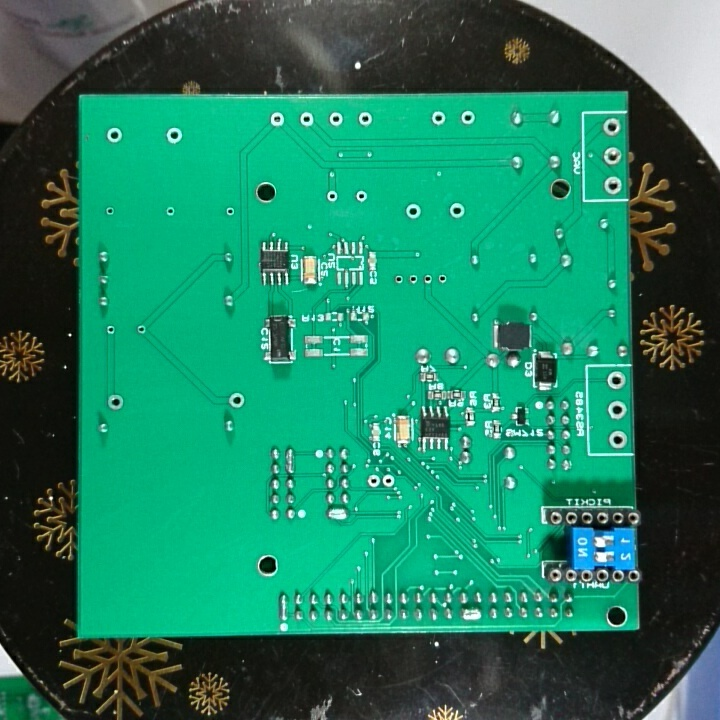F: (599, 144, 625, 169), (605, 398, 629, 423), (603, 369, 628, 392), (599, 116, 623, 139), (601, 172, 623, 196), (606, 428, 630, 450), (226, 389, 247, 411), (103, 124, 125, 145), (446, 199, 467, 220), (164, 125, 184, 146), (428, 108, 448, 129), (403, 200, 422, 222), (105, 392, 125, 412), (267, 109, 287, 129), (297, 109, 317, 129), (325, 110, 346, 129), (355, 109, 374, 130), (352, 186, 371, 205), (458, 108, 477, 127), (323, 187, 341, 206), (364, 473, 382, 491), (381, 472, 399, 490), (435, 269, 449, 290), (390, 270, 405, 289), (405, 269, 419, 289), (420, 269, 434, 289), (134, 322, 148, 338), (223, 203, 237, 219), (163, 203, 177, 218), (104, 323, 117, 337), (103, 203, 115, 218)
P: (322, 506, 353, 523), (458, 604, 485, 622), (275, 591, 290, 621), (283, 445, 297, 475)
